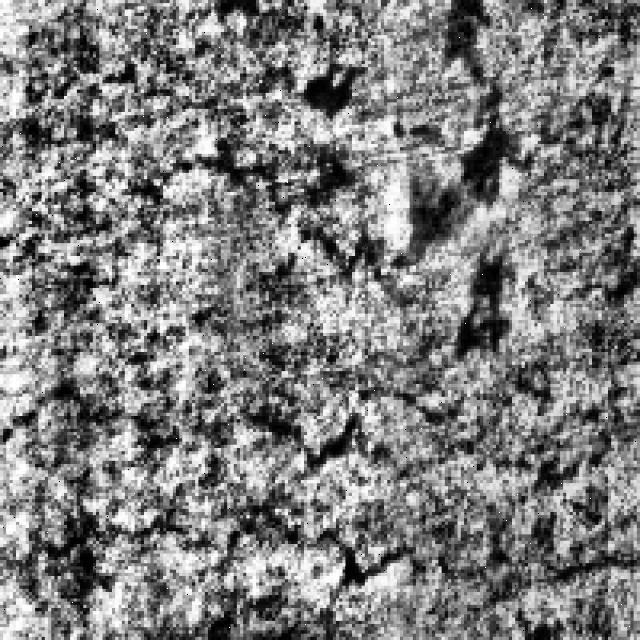Pitted_Surface: (6, 378, 438, 579), (42, 138, 390, 336)
Scratches: (394, 106, 524, 356)
